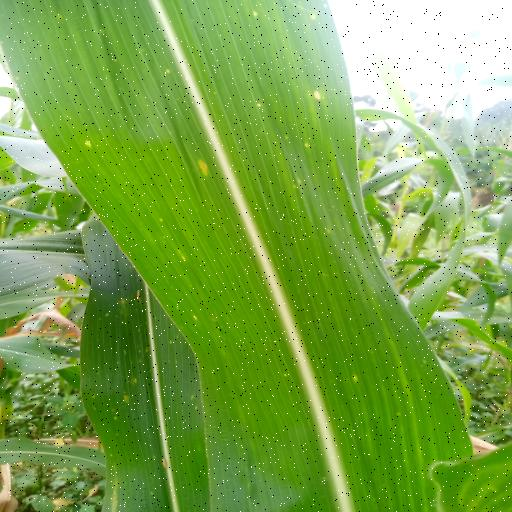Corn_Chlorotic_Leaf_Spot: (4, 0, 478, 512)
